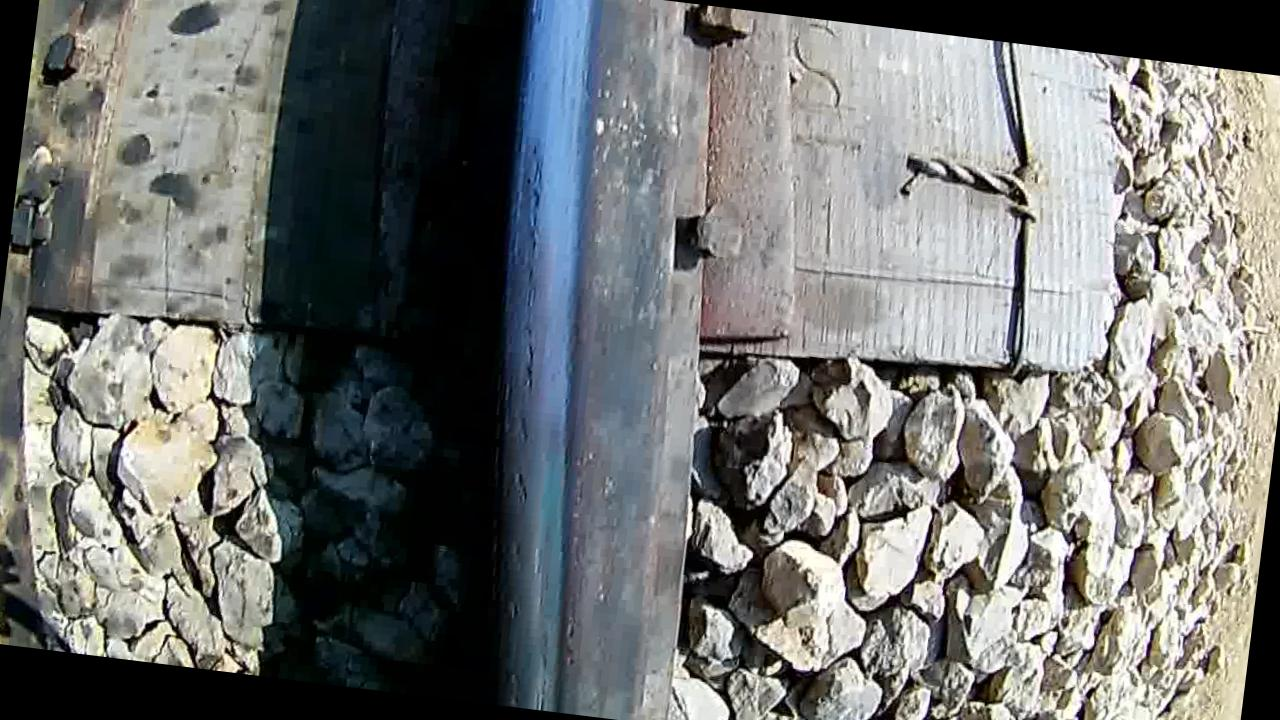crack: (446, 0, 712, 720)
